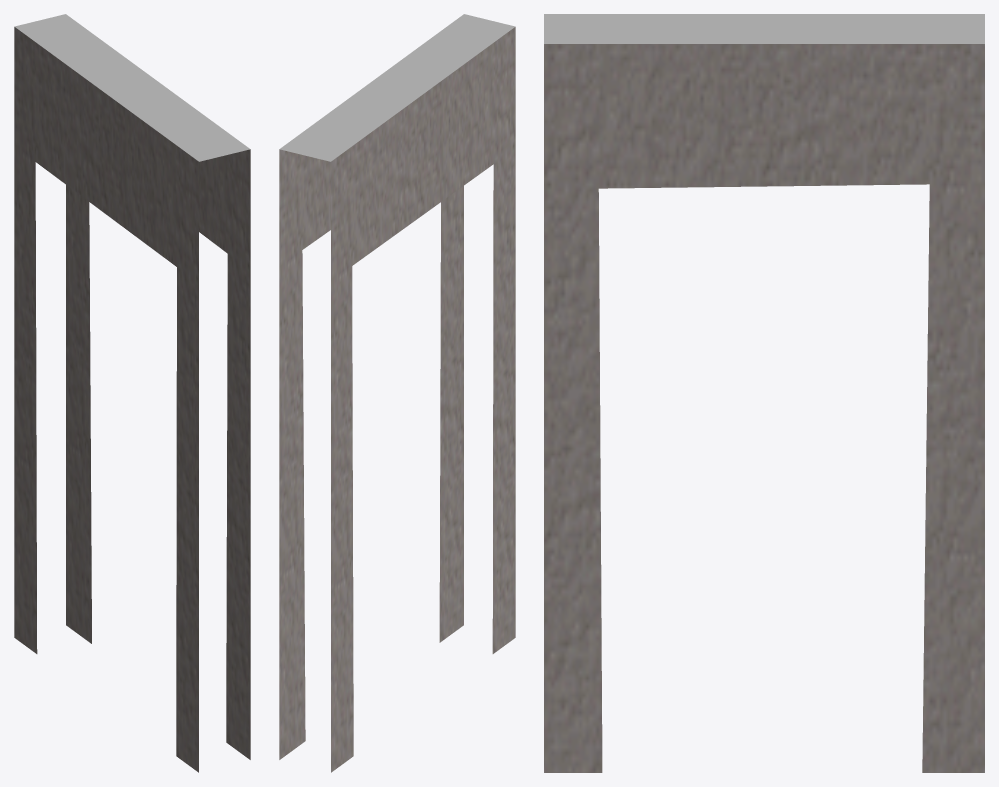
The model's file is W_I1_o [Marmor]_1352.glb.
3 renders of one model, left to right at view 1: azimuth 30°, elevation 25°; view 2: azimuth 150°, elevation 25°; view 3: azimuth 270°, elevation 25°, orthographic. The views are drawn at different scales.
Visible parts, largest first — view 1: pPlaneShape2, pPlaneShape3, pPlaneShape4; view 2: pPlaneShape2, pPlaneShape3, pPlaneShape4; view 3: pPlaneShape3, pPlaneShape4.
Boxes of the visible parts, x1=… form: pPlaneShape2: x1=14, y1=27, x2=198, y2=772; pPlaneShape3: x1=66, y1=149, x2=250, y2=759; pPlaneShape4: x1=14, y1=14, x2=250, y2=161; pPlaneShape2: x1=331, y1=27, x2=515, y2=772; pPlaneShape3: x1=279, y1=149, x2=463, y2=759; pPlaneShape4: x1=279, y1=14, x2=515, y2=161; pPlaneShape3: x1=544, y1=44, x2=984, y2=772; pPlaneShape4: x1=544, y1=14, x2=984, y2=43.
Size of the model in its own units: 0.0308 by 0.3486 by 0.1911.
Materials: 3 (2 with a texture image).
